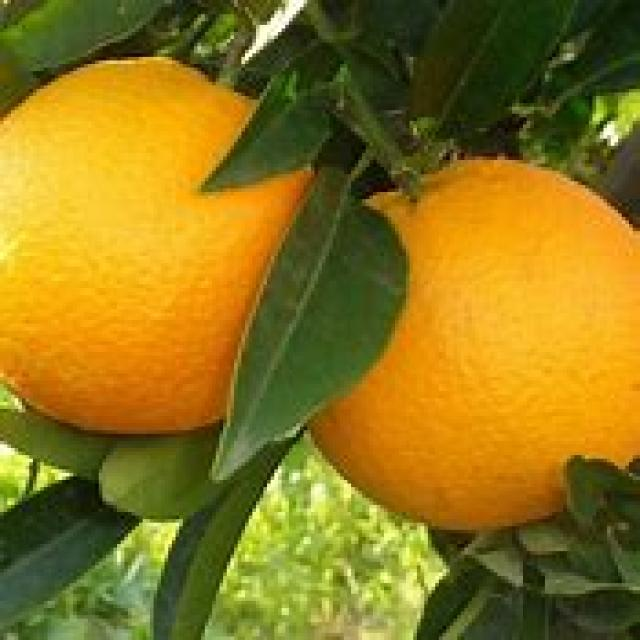Ripe: (319, 153, 640, 542), (0, 51, 318, 442)
